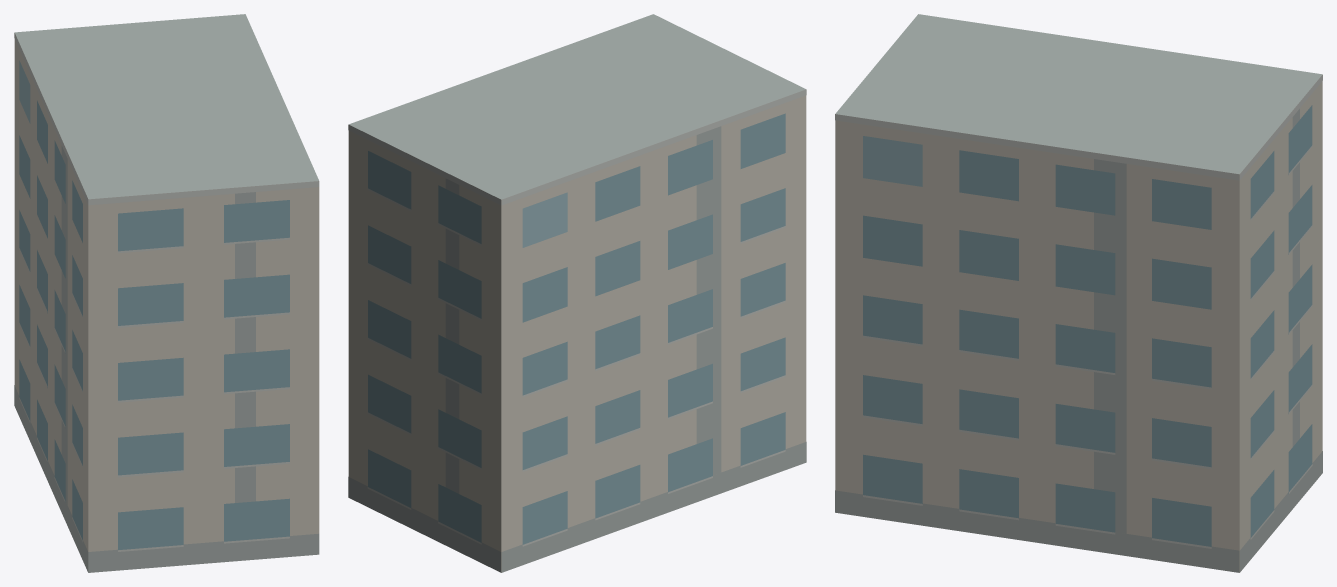
File: residential-87815795-49aa-412d-8043-c6020538b681.glb
The picture shows the model from 3 angles, left to right: view 1: azimuth 30°, elevation 25°; view 2: azimuth 150°, elevation 25°; view 3: azimuth 270°, elevation 25°; orthographic projection. The views are drawn at different scales.
Visible parts, largest first — view 1: residential-87815795-49aa-412d-8043-c6020538b681.tmp; view 2: residential-87815795-49aa-412d-8043-c6020538b681.tmp; view 3: residential-87815795-49aa-412d-8043-c6020538b681.tmp.
Part boxes in pixels (x1,y1,x2,y2): residential-87815795-49aa-412d-8043-c6020538b681.tmp: (14,14,319,572); residential-87815795-49aa-412d-8043-c6020538b681.tmp: (348,14,806,572); residential-87815795-49aa-412d-8043-c6020538b681.tmp: (835,14,1322,572).
Bounding box in the file's own units: 13.16 × 15.25 × 16.92.
